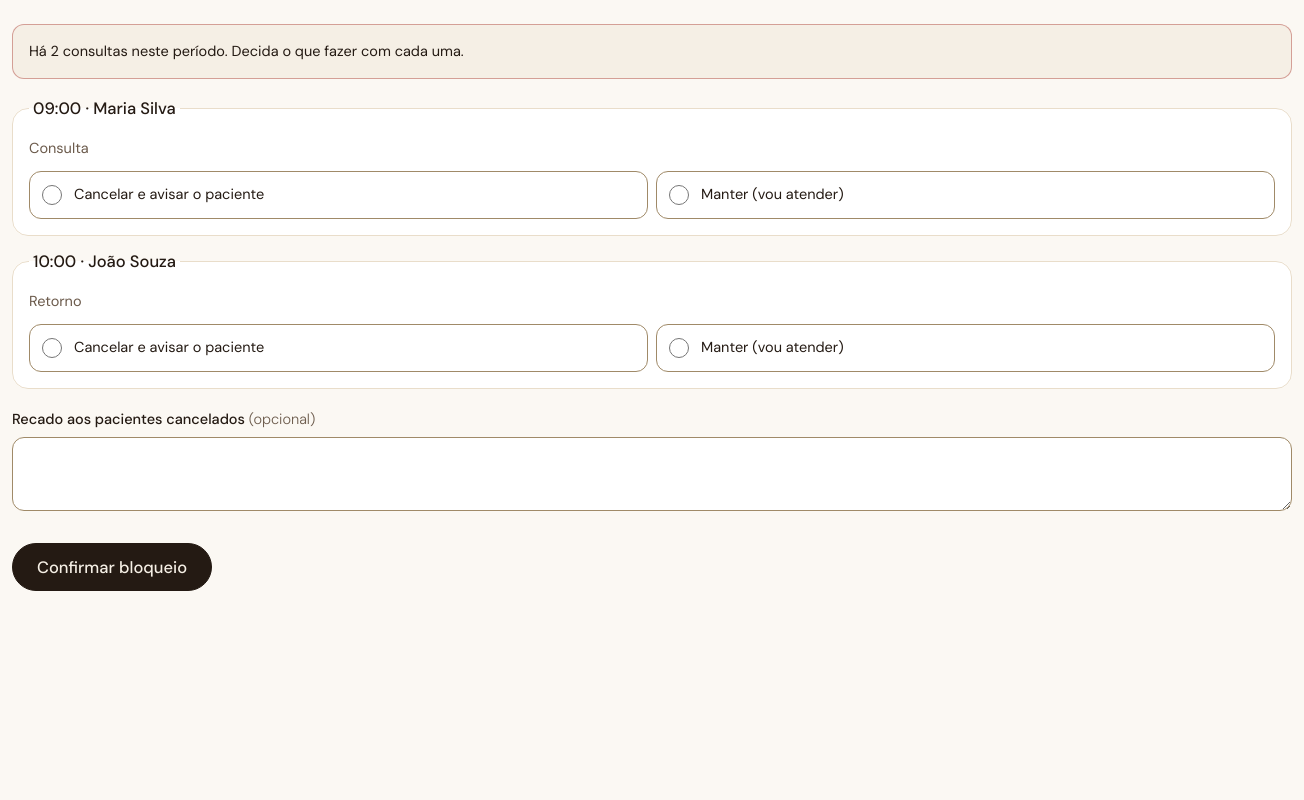
Test case: <FormBloquear> › decide cancelar para uma e manter para outra; envia decisao:<id> e o recado
Step 1. Click the radio button labelled "Cancelar e avisar o paciente" below "09:00" → (52, 195), box 42,173 -> 62,217
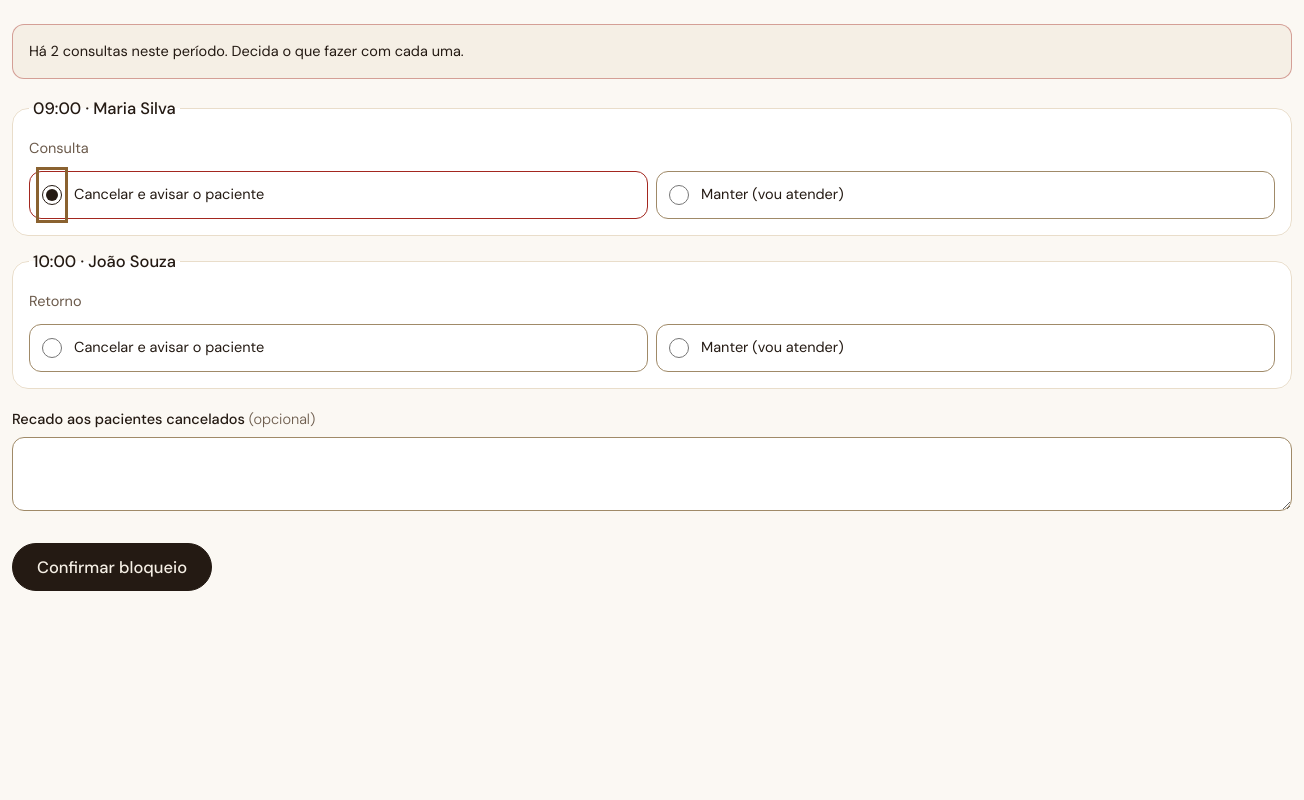
Step 2. Click the 2nd radio button labelled "Manter (vou atender)" → (679, 348), box 669,326 -> 689,370
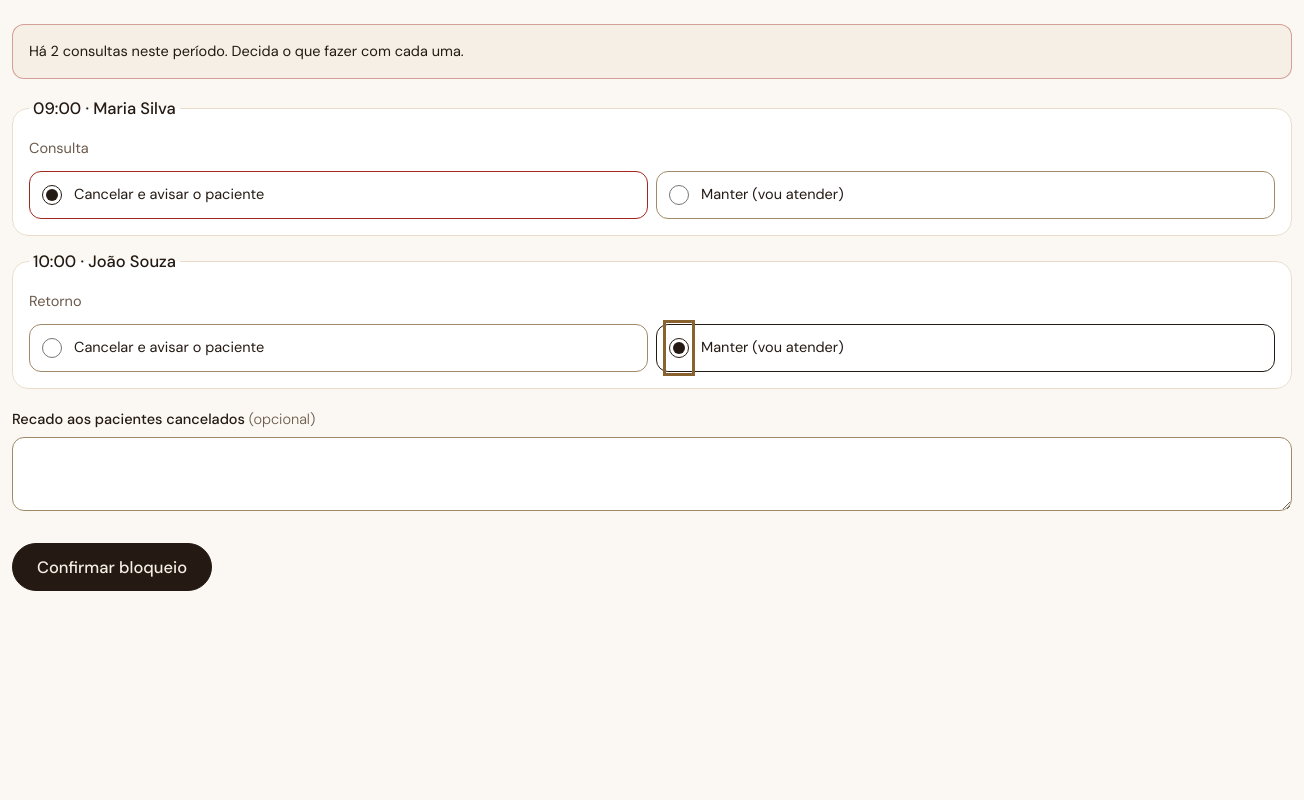
Step 3. Type "Desculpe o transtorno." into the text box labelled "Recado aos pacientes cancelados (opcional)" → (652, 474), box 12,437 -> 1292,511
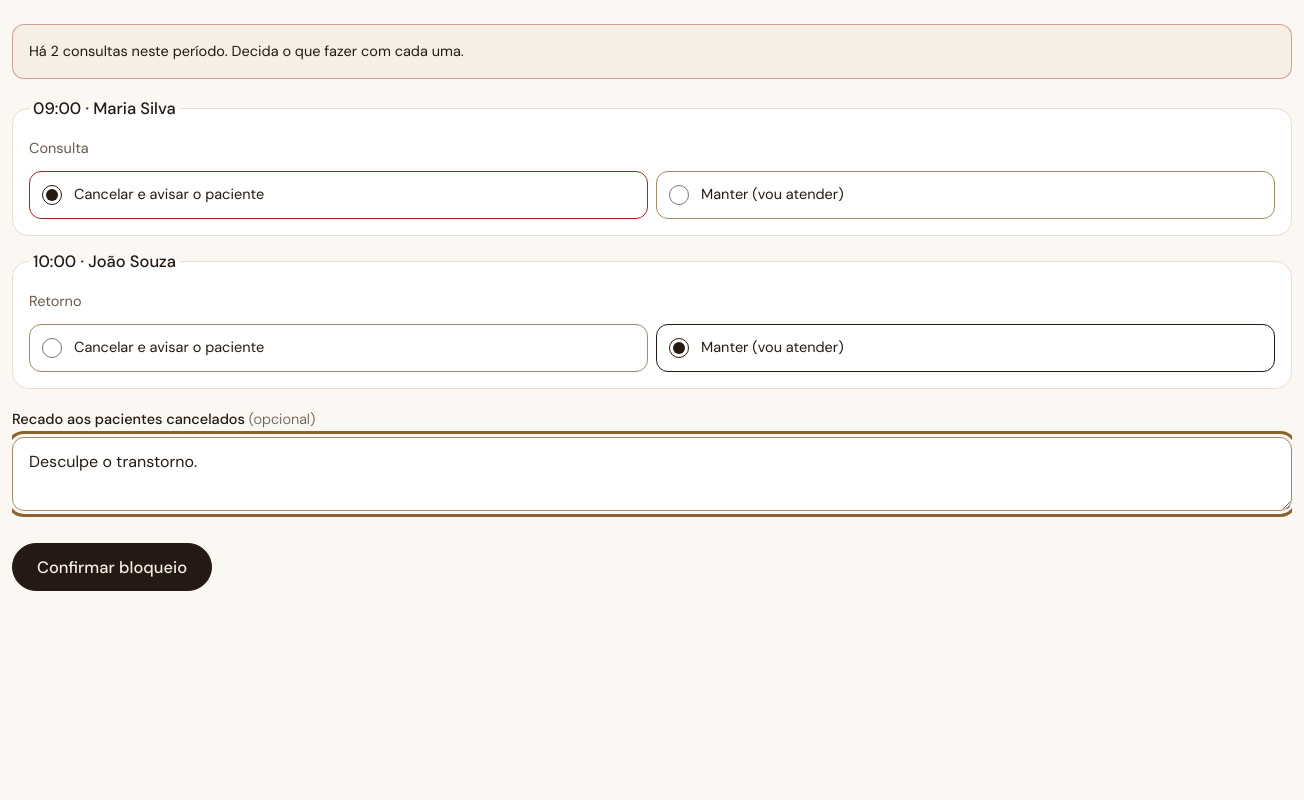
Step 4. Click the button "Confirmar bloqueio" → (112, 568), box 12,544 -> 212,592
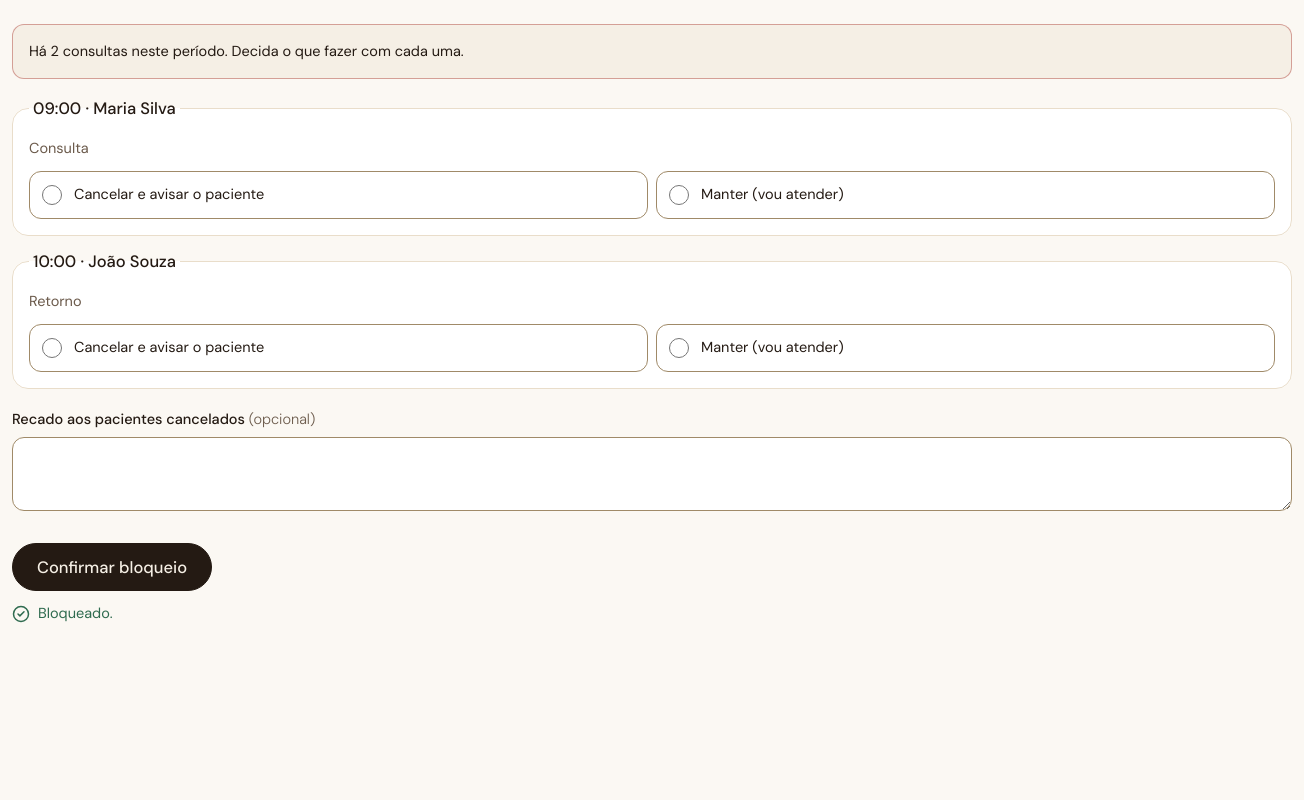
Check: the message reads "Bloqueado.", box 38,604 -> 113,622
